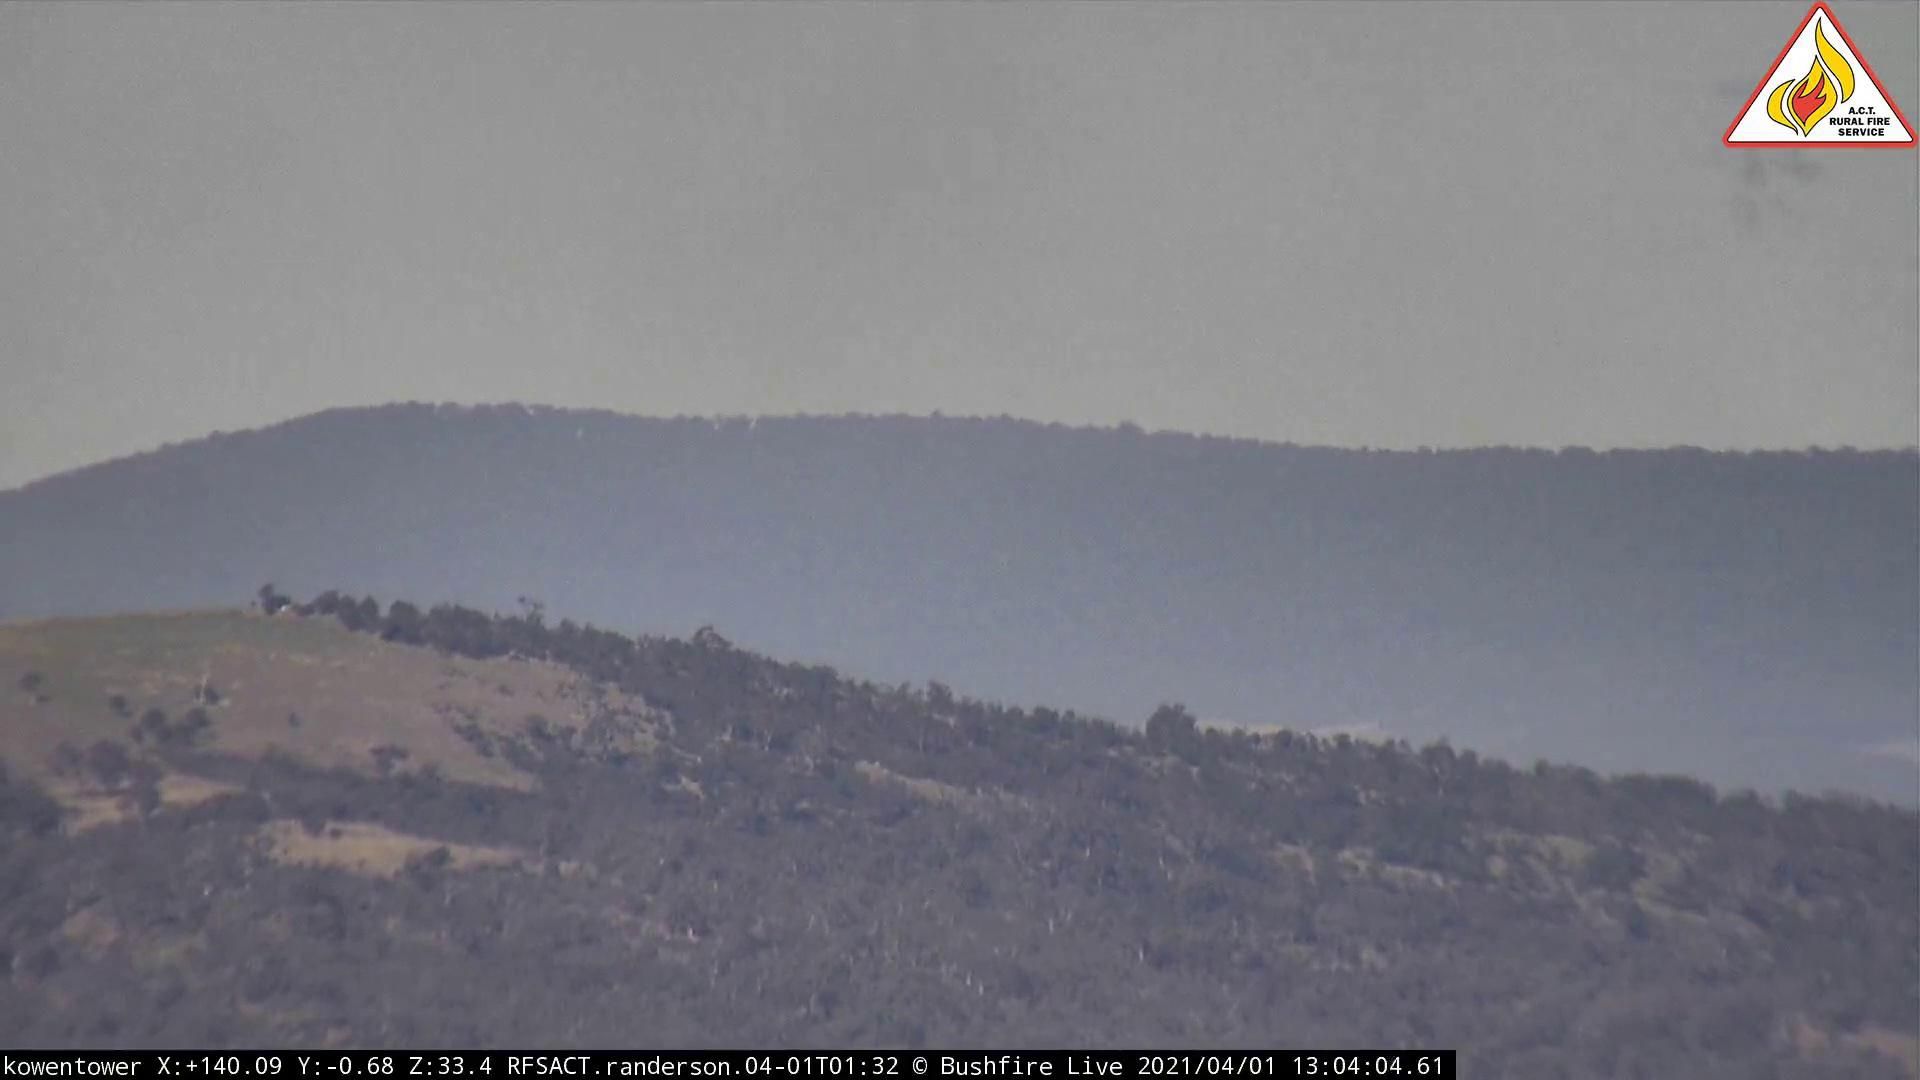instance_salient_object: (574, 127, 1065, 539), (1691, 160, 1873, 328)
